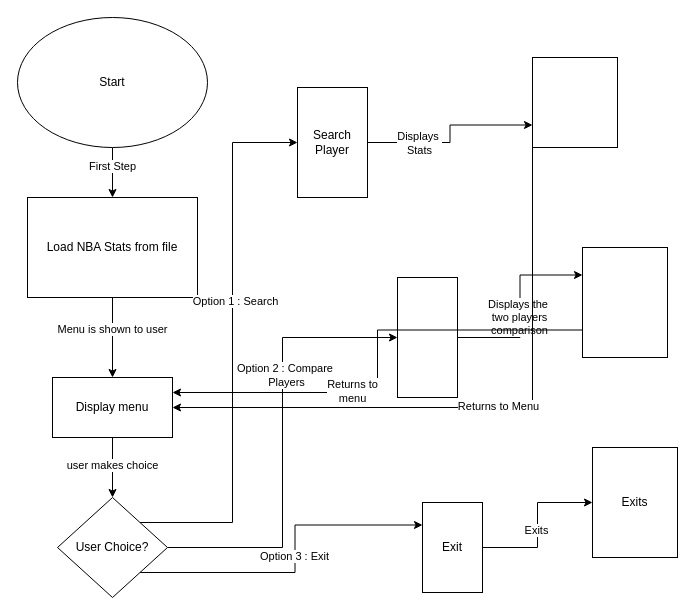
The diagram is 695 pixels wide and 615 high, and some of its shapes have lost their labels. The box of each missing label's shape, as (x1, y1, x2, y2) in pixels:
Compare Players: (396, 276, 458, 398)
Display Comparison: (582, 246, 668, 358)
Display Stats: (532, 56, 618, 148)
